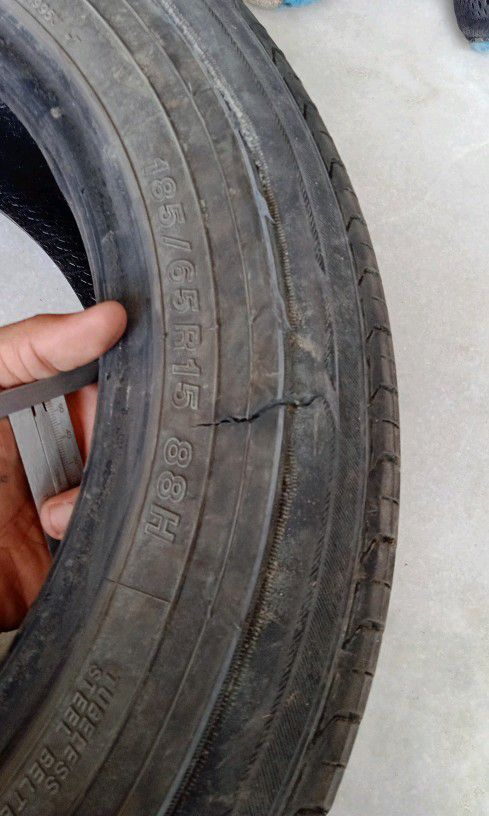cut: (185, 388, 328, 432)
